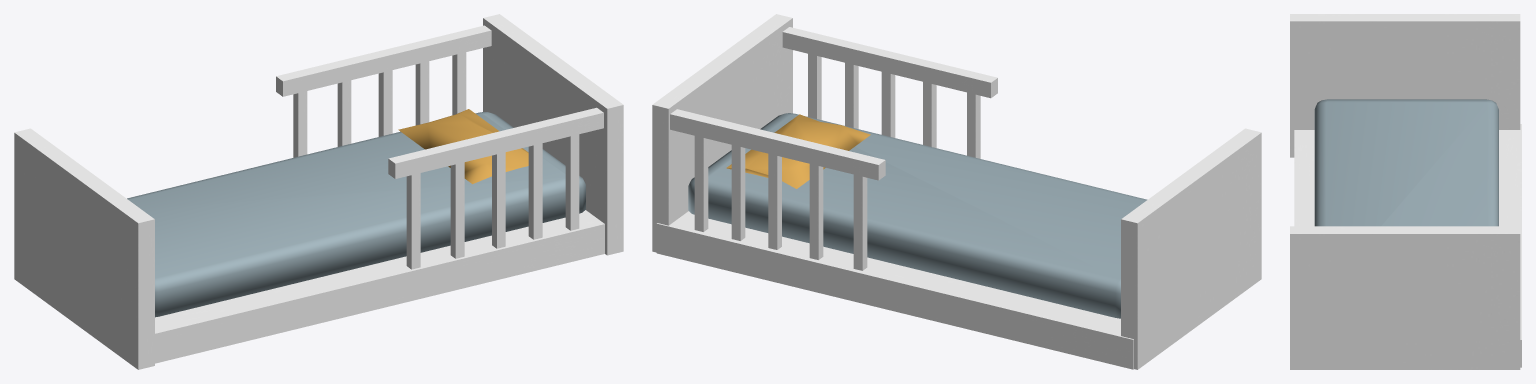
The model's file is cuna.obj.
3 views of the same model, side by side, from view 1: azimuth 30°, elevation 25°; view 2: azimuth 150°, elevation 25°; view 3: azimuth 270°, elevation 25° (orthographic). The views are drawn at different scales.
Visible parts, largest first — view 1: IKEA_Sultan_Erfjord_Queen_001, Box003, Box001, Box002, Box015, Box014, pillow_1_001, Box013, Box012, Box010, Box009, Box011 (+5 smaller); view 2: IKEA_Sultan_Erfjord_Queen_001, Box003, Box001, Box002, Box015, Box014, pillow_1_001, Box008, Box004, Box005, Box007, Box006 (+5 smaller); view 3: Box002, IKEA_Sultan_Erfjord_Queen_001, Box003, Box001, Box015, Box014.
Part boxes in pixels (<box>): IKEA_Sultan_Erfjord_Queen_001: <box>127,112,585,317</box>; Box003: <box>14,128,154,369</box>; Box001: <box>155,210,604,363</box>; Box002: <box>483,14,623,255</box>; Box015: <box>388,107,603,178</box>; Box014: <box>276,25,491,96</box>; pillow_1_001: <box>398,109,528,184</box>; Box013: <box>406,173,420,269</box>; Box012: <box>450,162,464,258</box>; Box010: <box>528,143,542,239</box>; Box009: <box>565,134,579,230</box>; Box011: <box>492,152,505,248</box>; IKEA_Sultan_Erfjord_Queen_001: <box>688,113,1147,318</box>; Box003: <box>1121,128,1261,369</box>; Box001: <box>656,211,1133,369</box>; Box002: <box>652,14,792,252</box>; Box015: <box>782,27,997,98</box>; Box014: <box>670,109,885,180</box>; pillow_1_001: <box>726,114,870,188</box>; Box008: <box>853,174,867,270</box>; Box004: <box>694,136,708,231</box>; Box005: <box>731,145,745,240</box>; Box007: <box>809,164,823,259</box>; Box006: <box>768,153,781,249</box>; Box002: <box>1290,226,1520,369</box>; IKEA_Sultan_Erfjord_Queen_001: <box>1314,99,1498,226</box>; Box003: <box>1290,14,1520,157</box>; Box001: <box>1294,124,1521,367</box>; Box015: <box>1296,137,1309,226</box>; Box014: <box>1505,137,1517,226</box>.
Size of the model in its own units: 26.85 by 7.75 by 11.97.
3 materials, 3 textured.
